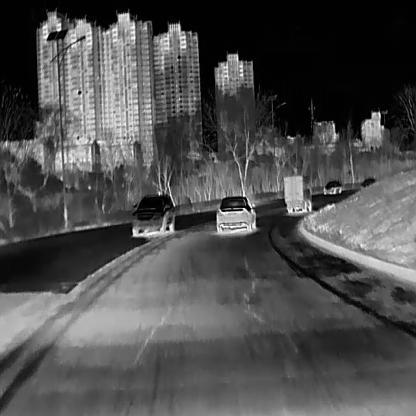car: (131, 193, 176, 236), (215, 194, 256, 234), (283, 173, 312, 212), (322, 180, 341, 194), (360, 177, 376, 190)
